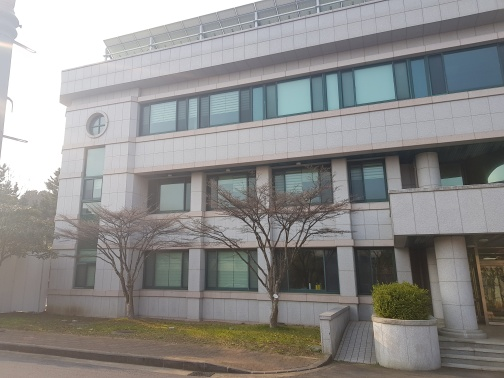Information Telecommunication Center: (46, 22, 500, 334)
